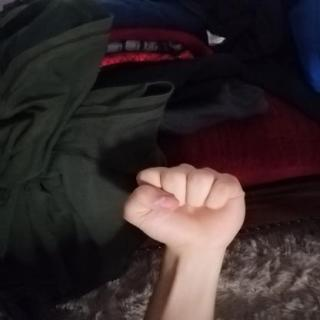SAD: (103, 153, 268, 262)
